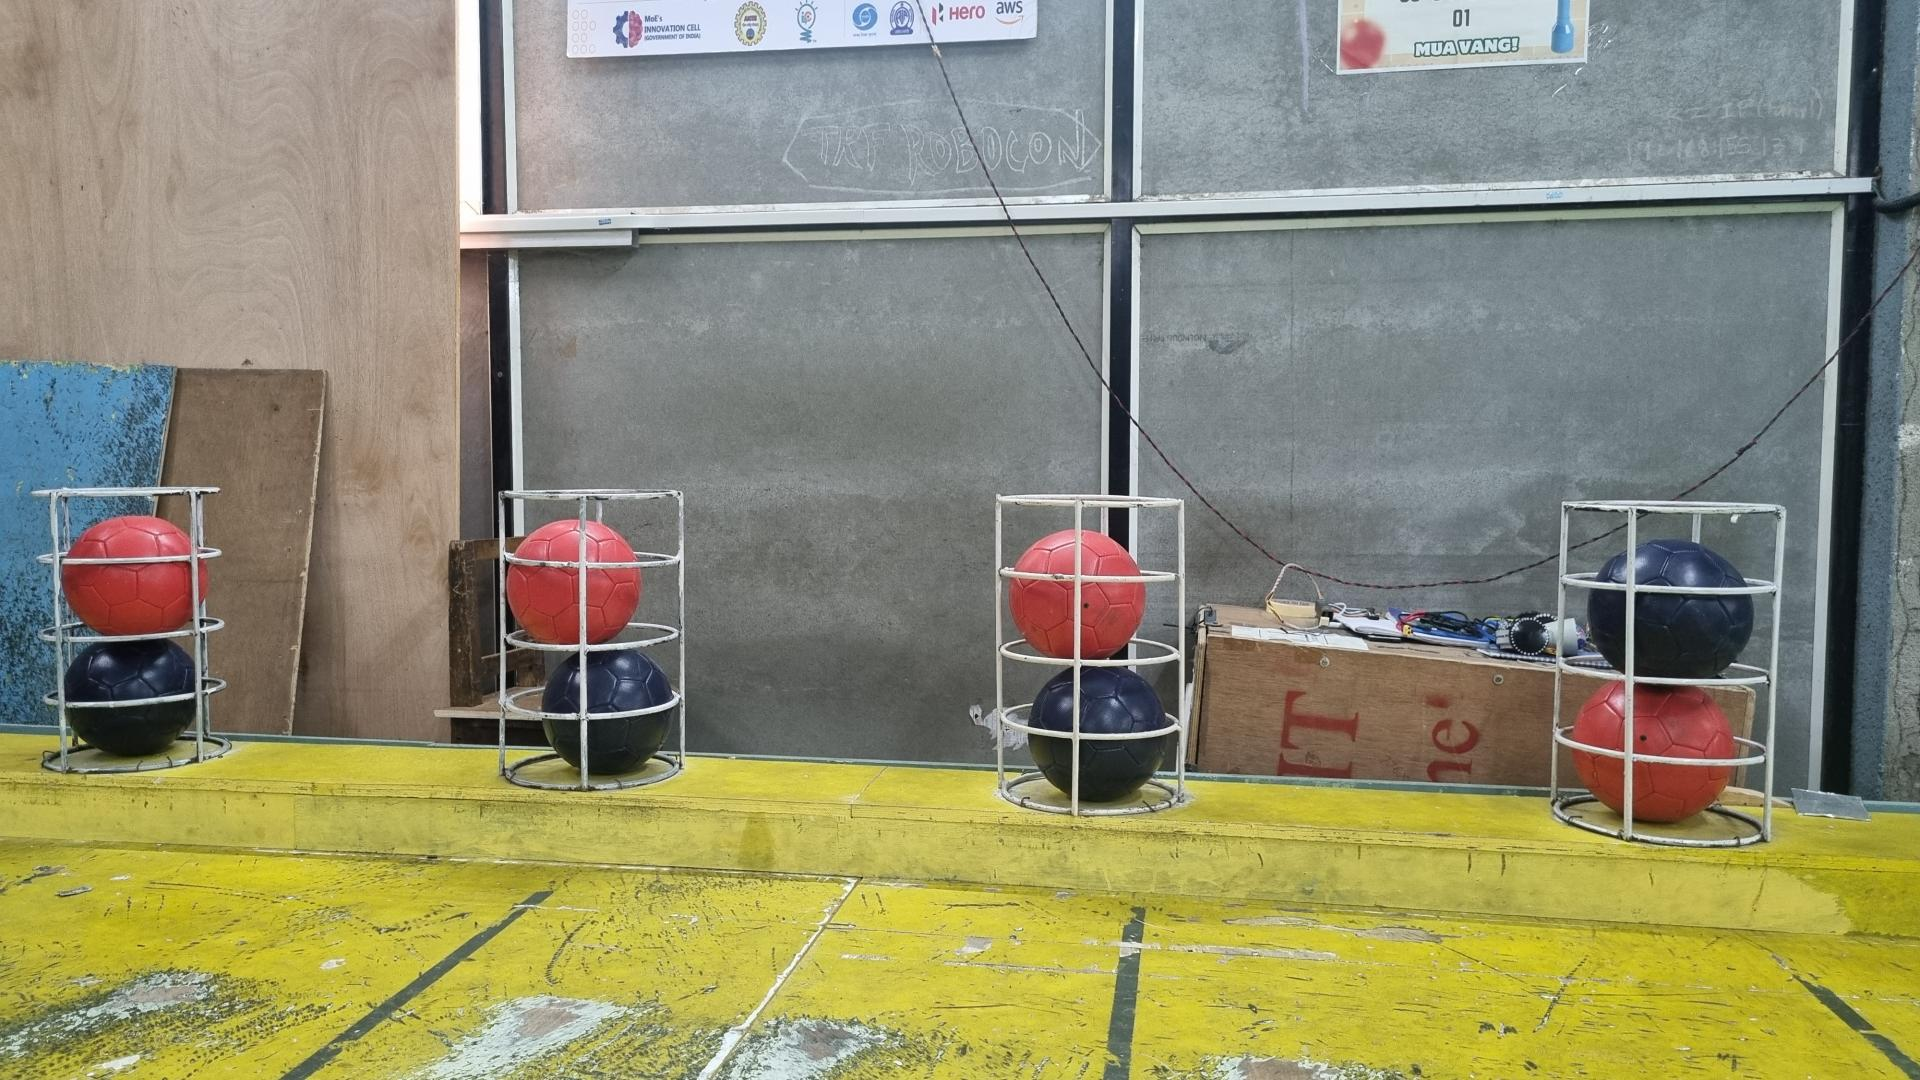dhoka: (1590, 539, 1755, 678), (1031, 667, 1174, 802), (541, 649, 673, 779), (67, 641, 199, 757)
laale: (1572, 682, 1737, 824), (505, 517, 645, 649), (62, 513, 208, 637), (1013, 529, 1147, 659)
